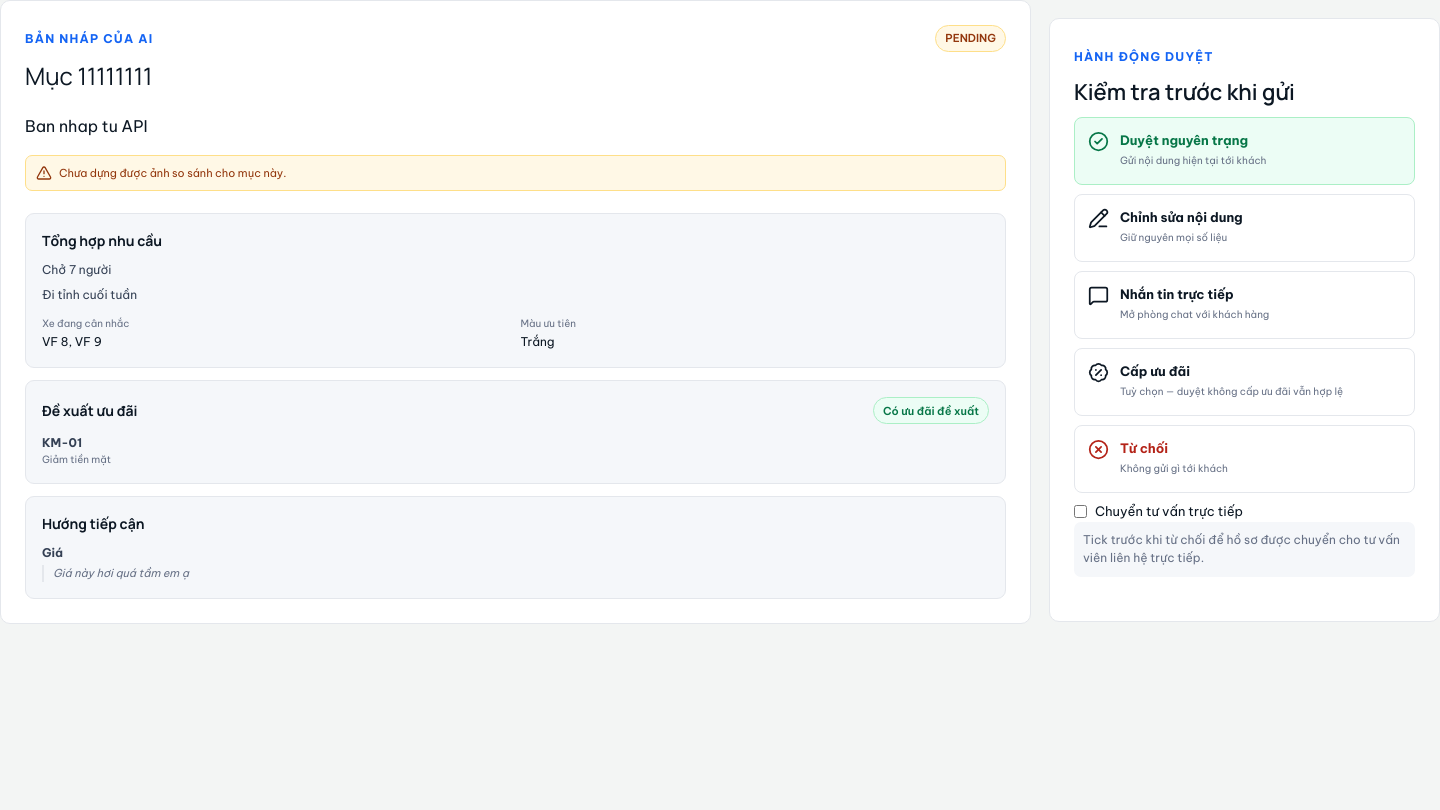
Test: AdvisorReviewPanel — chuyển tư vấn trực tiếp (T19) › từ chối kèm checkbox gửi handoff_requested=true
Expected: the text "Ban nhap tu API" is shown, [25,116,148,136]
What coordinates should you click on to do the following:
click the checkbox labelled "Chuyển tư vấn trực tiếp"
I would click on:
 (1080, 512)
Its box is [1074,505,1087,518].
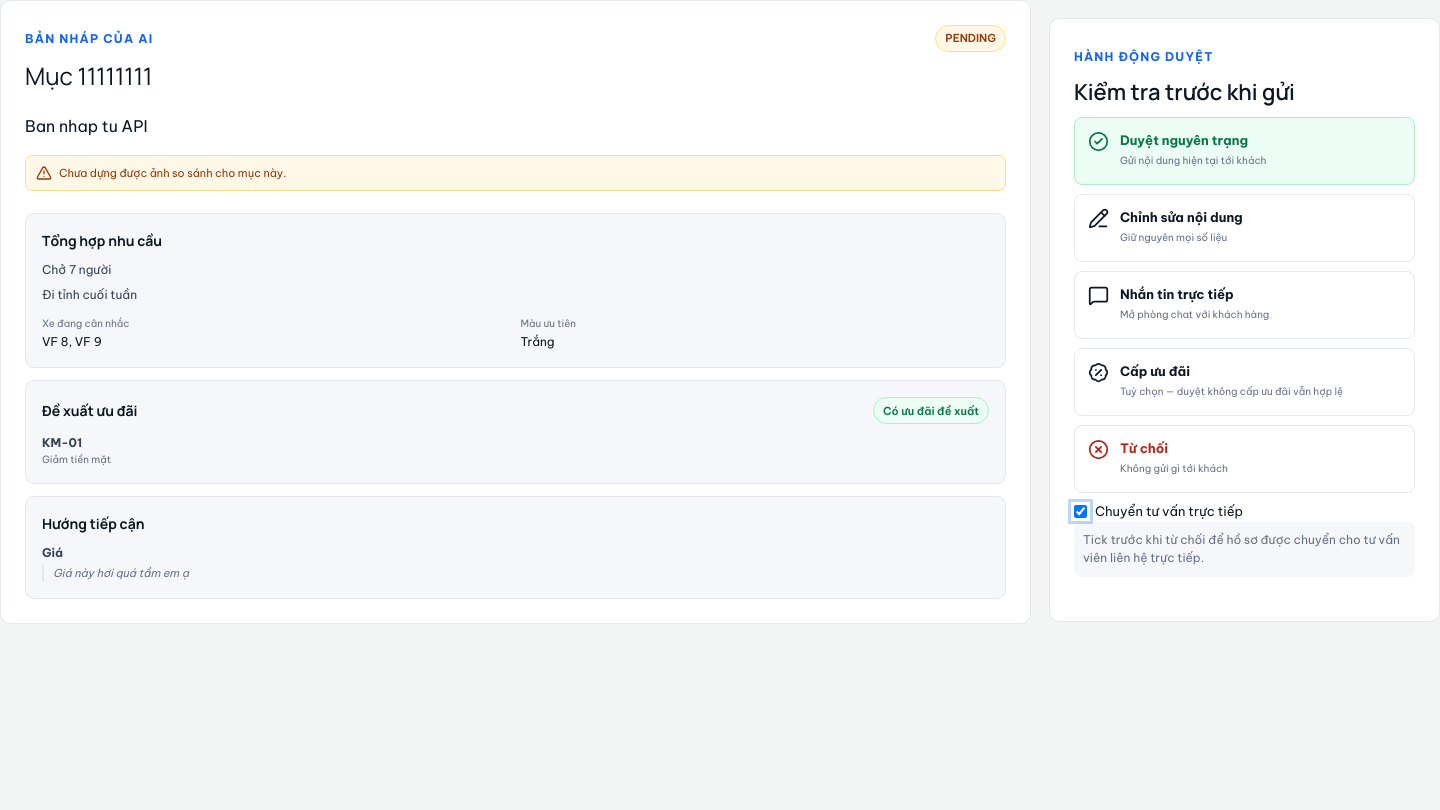
What coordinates should you click on to do the following:
click the button "Từ chối Không gửi gì tới khách"
I would click on:
 (1144, 448)
Its box is [1074,425,1415,493].
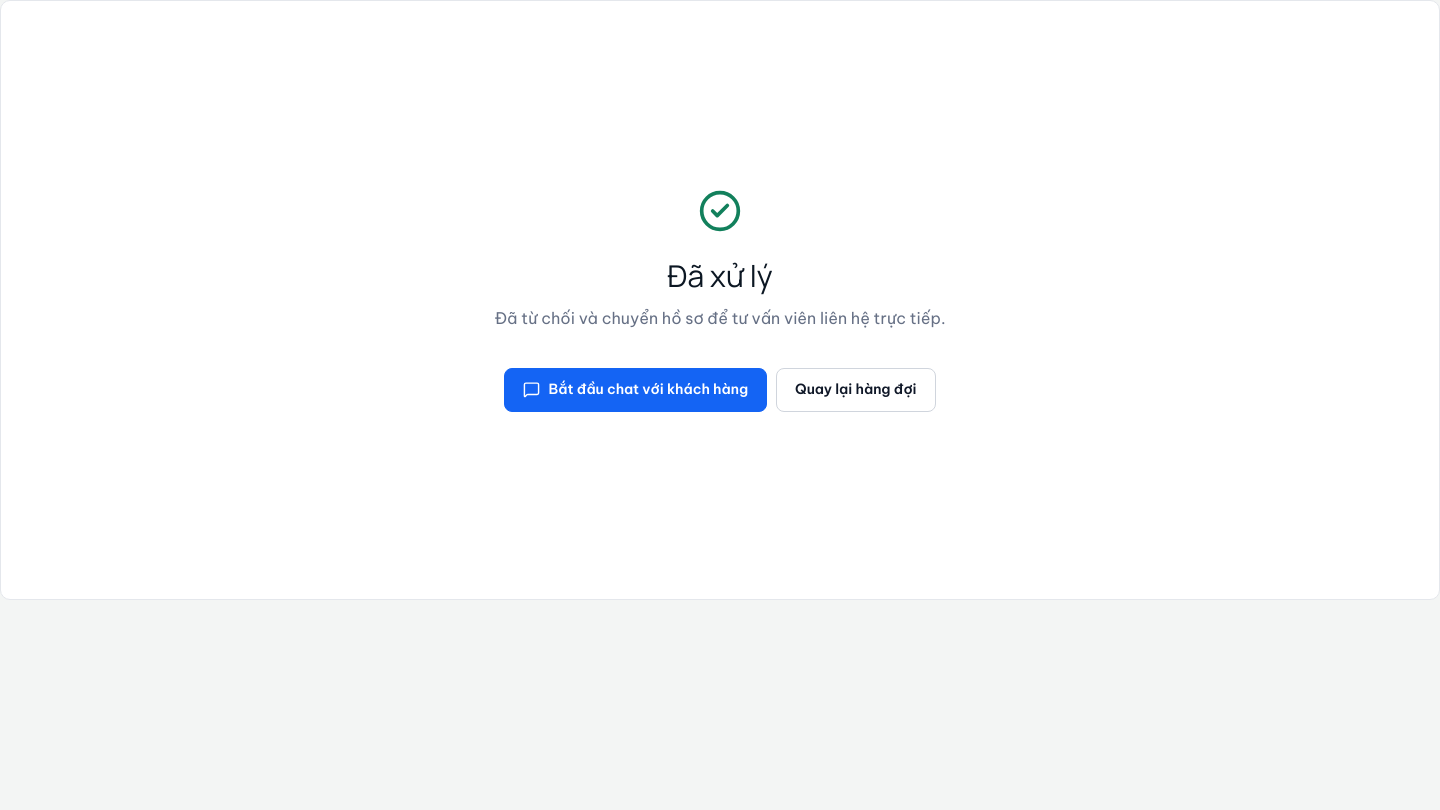
Expected: the text "Đã từ chối và chuyển hồ sơ để tư vấn viên liên hệ trực tiếp." is shown, [494,306,946,330]
